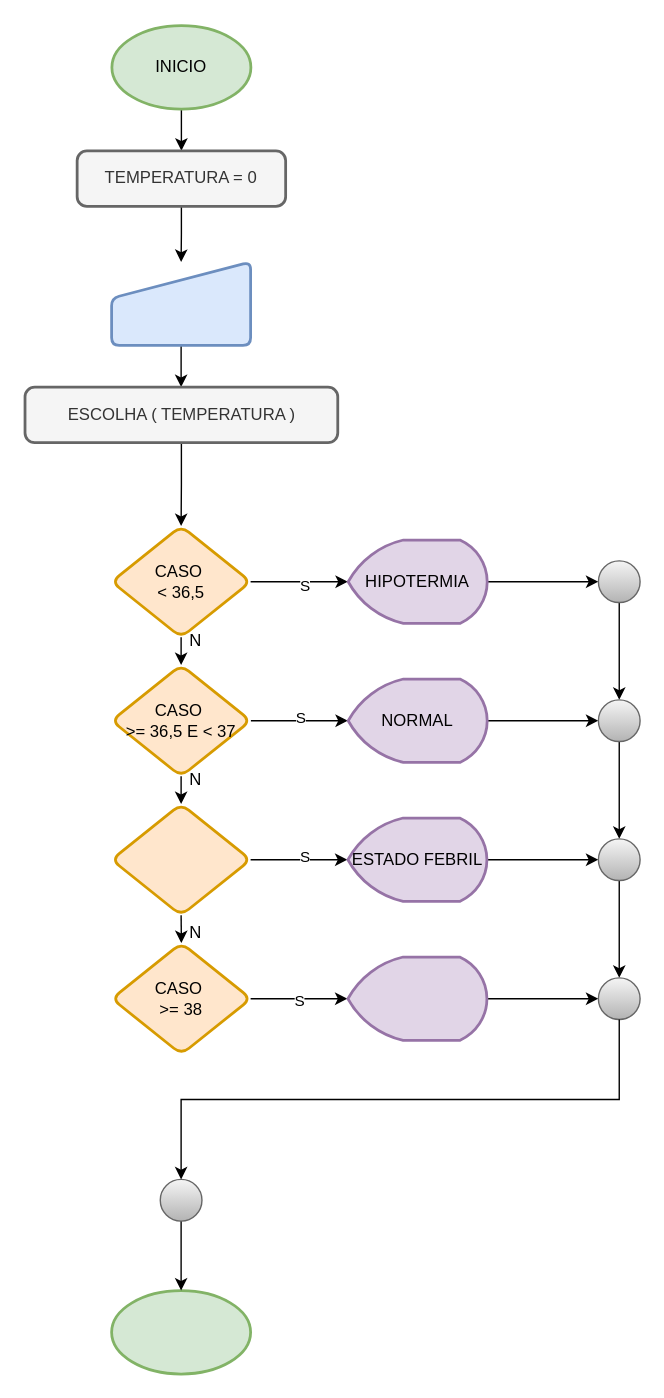
The diagram is 664 pixels wide and 1398 high, and some of its shapes have lost their labels. Here are the shapes that lost their labels. From the top down, the centre of each, then its label:
the point at 180,303: TEMPERATURA
the point at 180,859: CASO >= 37 E < 38
the point at 417,998: FEBRE
the point at 180,1332: FIM
